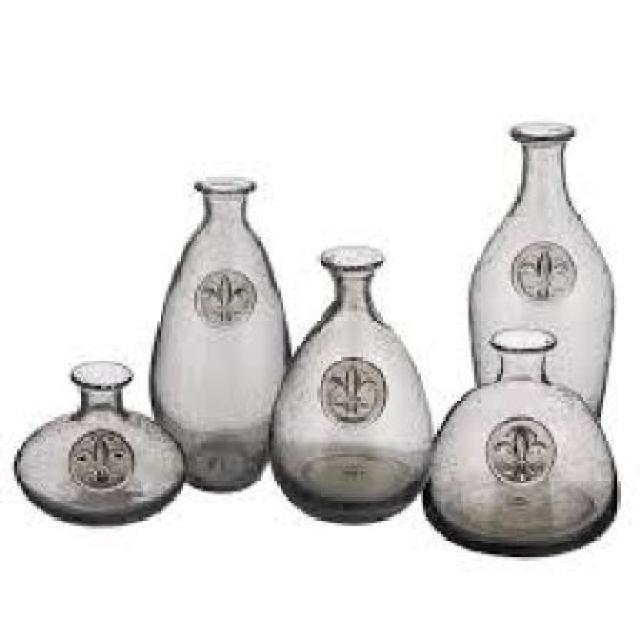kaca: (266, 243, 431, 523), (420, 329, 617, 557), (466, 120, 611, 423), (153, 177, 290, 489), (11, 360, 183, 526)
